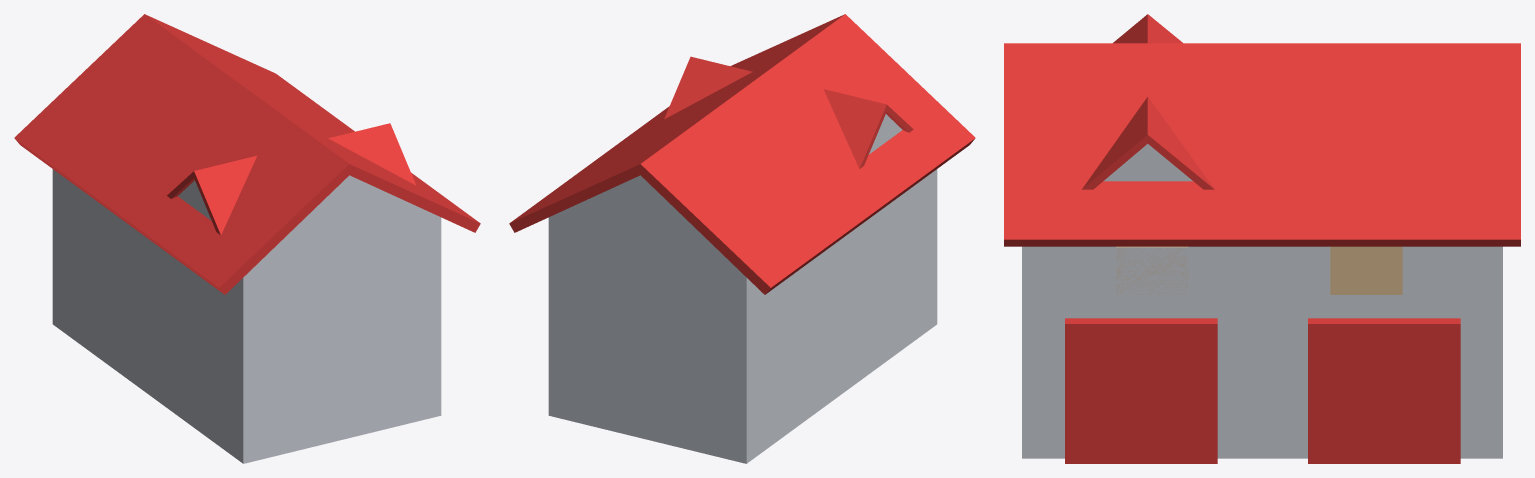
Rendered from CarHouse2.fbx.
The picture shows the model from 3 angles, left to right: view 1: azimuth 30°, elevation 25°; view 2: azimuth 150°, elevation 25°; view 3: azimuth 270°, elevation 25°; orthographic projection. The views are drawn at different scales.
Parts seen in each view (by area): view 1: Cube; view 2: Cube; view 3: Cube.
Boxes of the visible parts, box(x1,y1,x2,y2) form: Cube: box(14, 14, 480, 463); Cube: box(509, 14, 975, 463); Cube: box(1004, 14, 1520, 463).
Size of the model in its own units: 792 by 813 by 1074.
